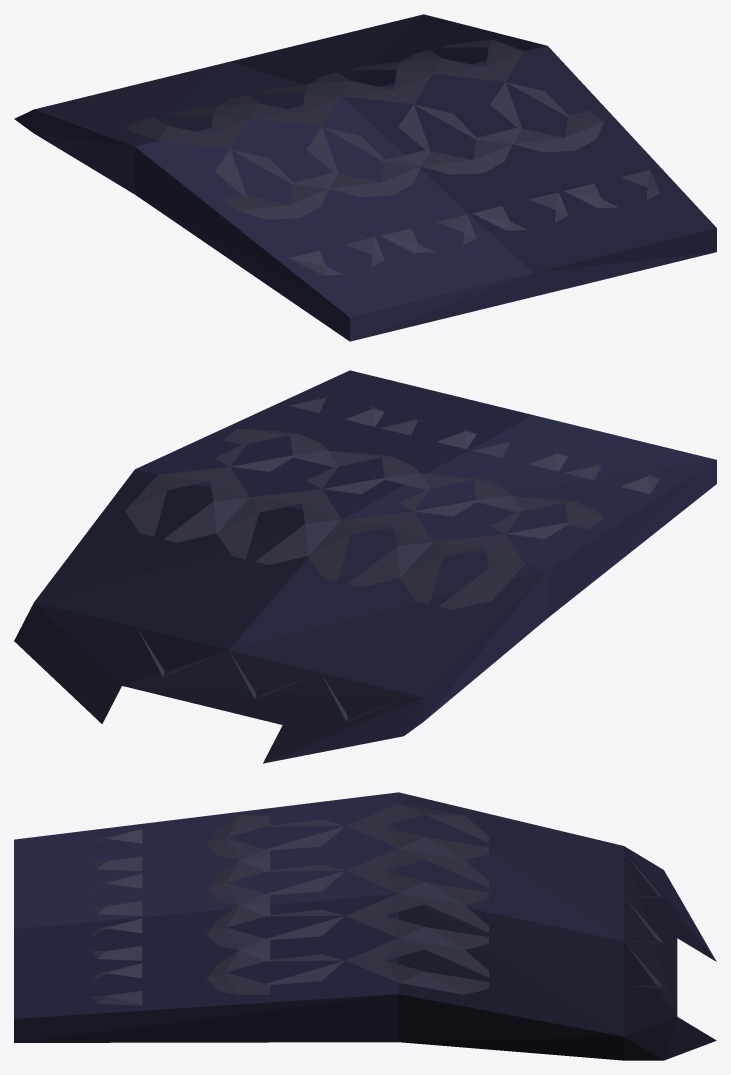
File: mithril-chainbody.obj
3 renders of one model, top to bottom at view 1: azimuth 30°, elevation 25°; view 2: azimuth 150°, elevation 25°; view 3: azimuth 270°, elevation 25°, orthographic.
Parts seen in each view (by area): view 1: Item Mithril chainbody 2026-09-24_18-13-54; view 2: Item Mithril chainbody 2026-09-24_18-13-54; view 3: Item Mithril chainbody 2026-09-24_18-13-54.
Part boxes in pixels (box(x1,y1,x2,y2)): Item Mithril chainbody 2026-09-24_18-13-54: box(14, 14, 716, 341); Item Mithril chainbody 2026-09-24_18-13-54: box(14, 370, 716, 763); Item Mithril chainbody 2026-09-24_18-13-54: box(14, 792, 716, 1060).
Bounding box in the file's own units: 36 × 9 × 53.
